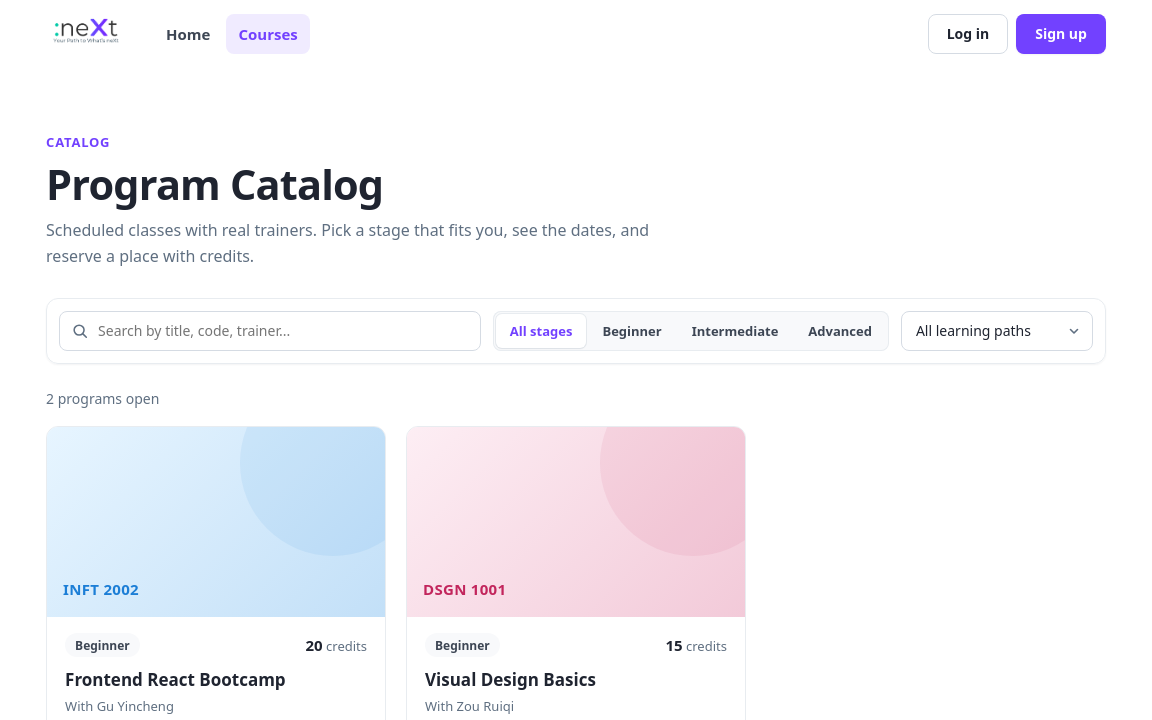
Test: filters the public catalog by learning path
The width and height of the screenshot is (1152, 720).
Expected: the heading "Visual Design Basics" is shown, [425,668,596,691]
Select "Creative studies" in the dropdown named "Learning path": (997, 331) [901,311,1093,351]
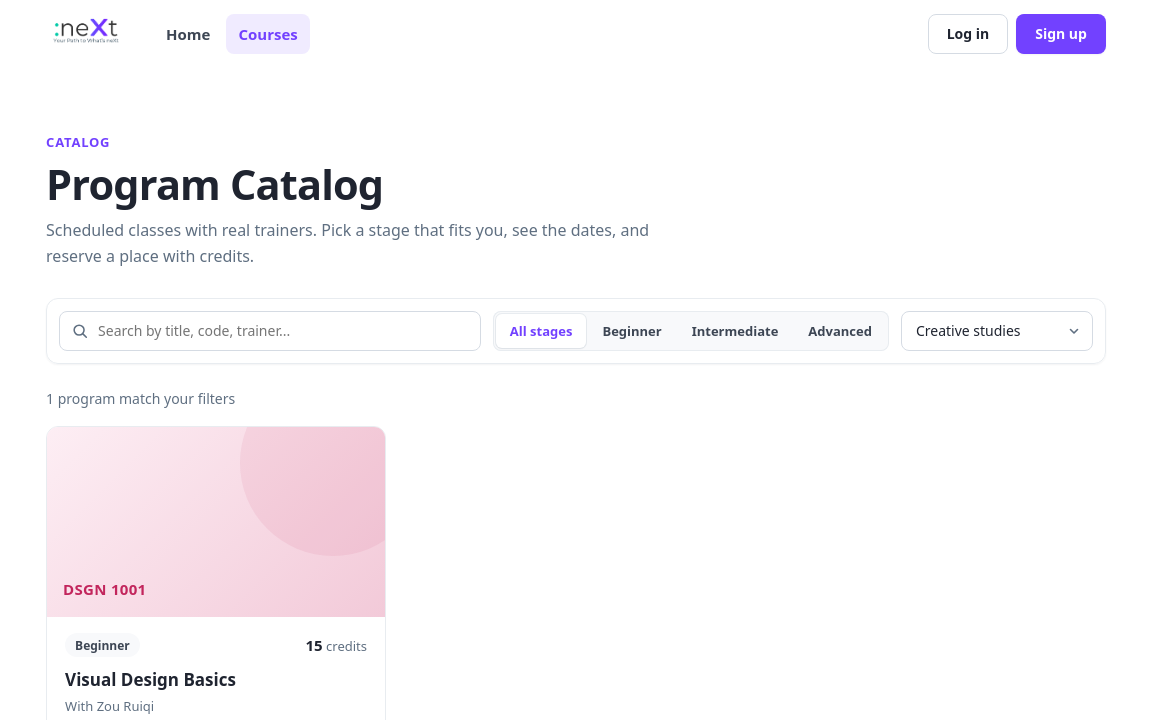
Expected: the heading "Visual Design Basics" is shown, [65,668,236,691]
Expected: the heading "Frontend React Bootcamp" is gone
